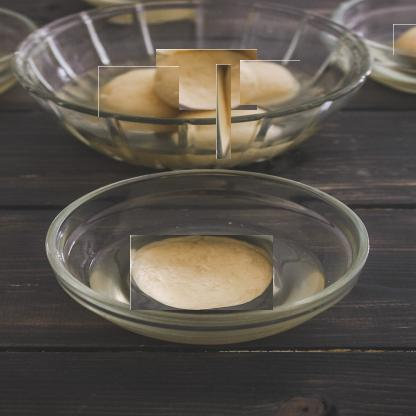rasgulla: (130, 234, 273, 310), (155, 49, 257, 110), (98, 66, 179, 117), (196, 84, 251, 139), (240, 60, 300, 105), (393, 24, 416, 55)
